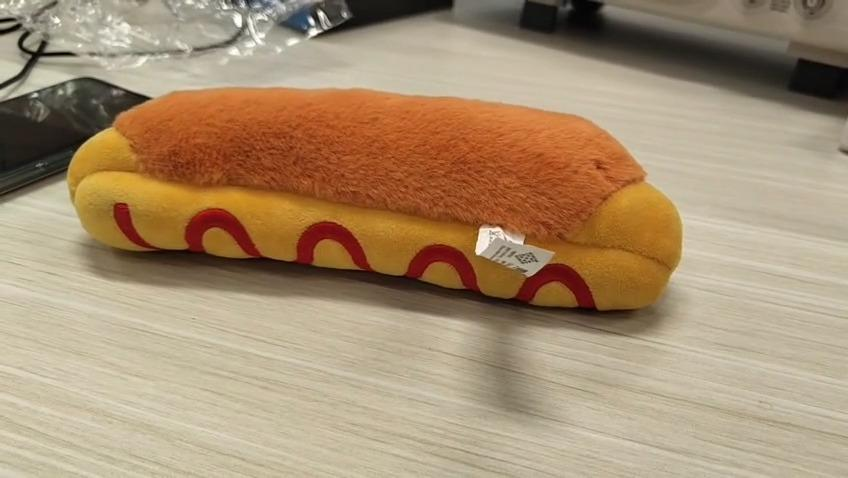hotdog: (67, 89, 684, 312)
